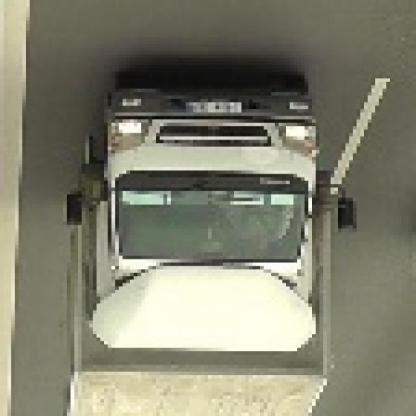truck: (67, 72, 357, 416)
